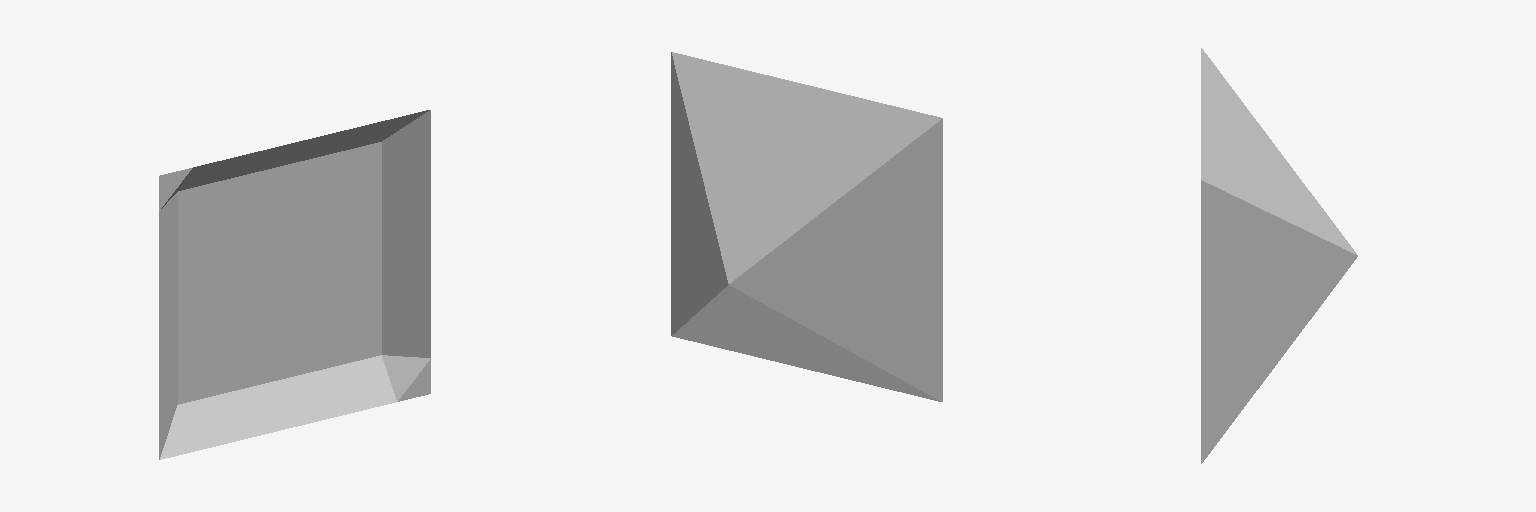
File: ground5j.obj
The picture shows the model from 3 angles: view 1: azimuth 30°, elevation 25°; view 2: azimuth 150°, elevation 25°; view 3: azimuth 270°, elevation 25°; orthographic projection.
Parts seen in each view (by area): view 1: Ground.003.003, Ground.002.003, Ground.003.002, Ground.003.001, Ground.001.002, Ground.002.002, Ground.001.003, Ground.003.004, Ground.002.001, Ground.004.003, Ground.001.001, Ground.002.004 (+4 smaller); view 2: Bottom.004, Bottom.003, Bottom.001, Bottom.002; view 3: Bottom.002, Bottom.003.
Part boxes in pixels (x1,y1,x2,y2): Ground.003.003: (348, 320, 430, 409); Ground.002.003: (348, 177, 430, 255); Ground.003.002: (348, 248, 430, 327); Ground.003.001: (280, 328, 362, 426); Ground.001.002: (212, 344, 294, 443); Ground.002.002: (348, 110, 430, 184); Ground.001.003: (212, 273, 279, 360); Ground.003.004: (280, 257, 347, 343); Ground.002.001: (280, 186, 347, 272); Ground.004.003: (212, 202, 279, 289); Ground.001.001: (159, 361, 226, 459); Ground.002.004: (280, 126, 362, 201); Bottom.004: (729, 119, 942, 401); Bottom.003: (672, 52, 942, 283); Bottom.001: (672, 285, 940, 401); Bottom.002: (671, 52, 728, 335); Bottom.002: (1201, 180, 1357, 463); Bottom.003: (1201, 48, 1356, 254).
Size of the model in its own units: 1000 by 1000 by 501.